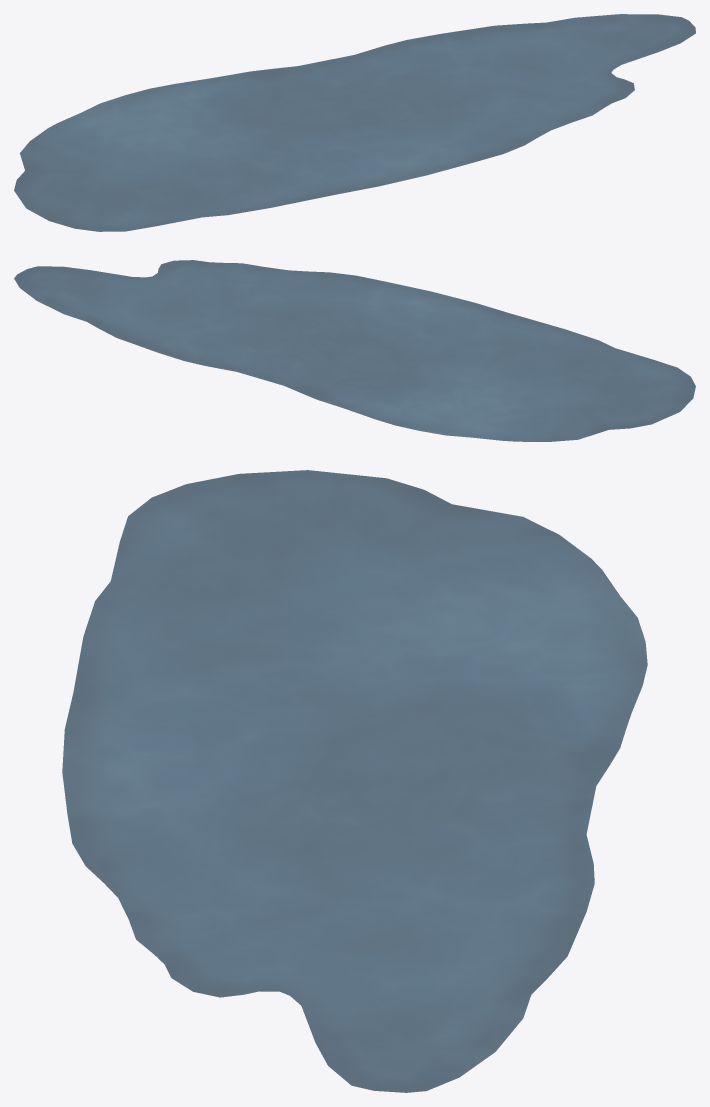
Rendered from water.FBX.
The picture shows the model from 3 angles, top to bottom: view 1: azimuth 30°, elevation 25°; view 2: azimuth 150°, elevation 25°; view 3: azimuth 270°, elevation 25°; orthographic projection. The views are drawn at different scales.
Parts seen in each view (by area): view 1: Line001; view 2: Line001; view 3: Line001.
Boxes of the visible parts, bbox=[...] form: Line001: bbox=[14, 14, 695, 231]; Line001: bbox=[14, 260, 695, 441]; Line001: bbox=[62, 470, 647, 1092].
Bounding box in the file's own units: 6 × 1.46e-16 × 2.38.
